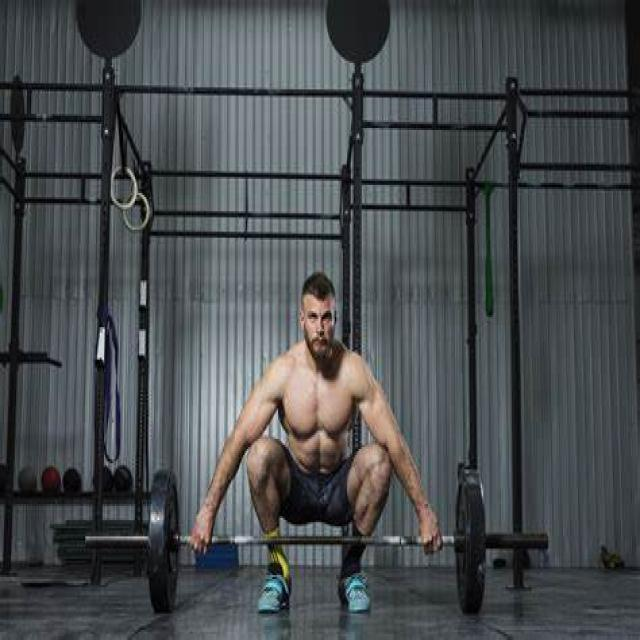sit: (237, 271, 427, 634)
